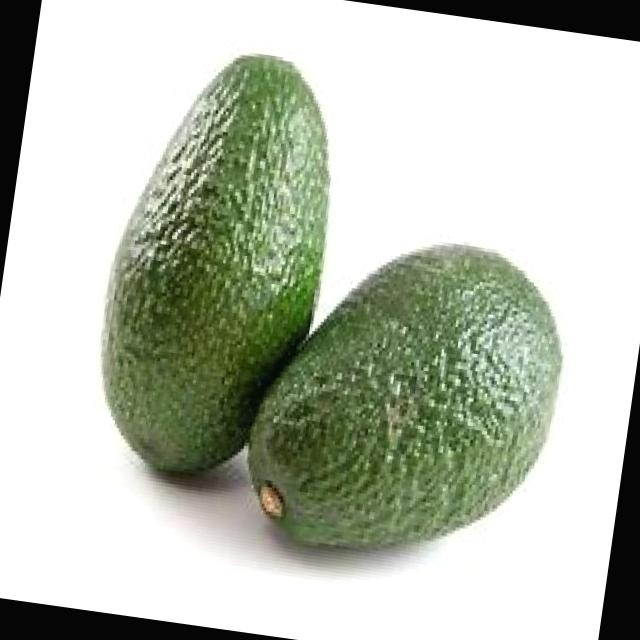avocado: (234, 220, 603, 580), (84, 46, 359, 506)
